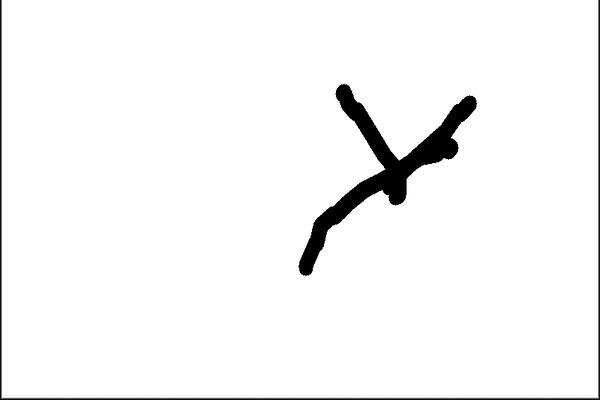Y: (287, 75, 482, 285)
